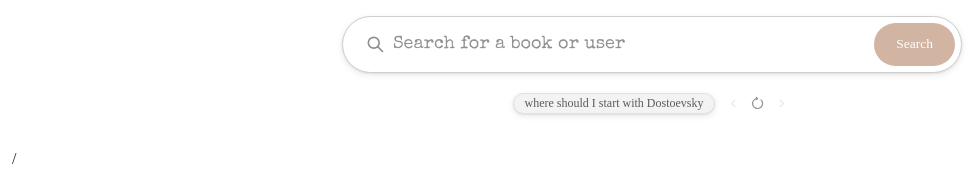
Test: DiscoverPage › the canned search pills (LOS-212) › draws a new sample when the refresh glyph is clicked
This screenshot has width=980, height=181.
Expected: the button "where should I start with Dostoevsky" is shown, [512,93,716,114]
Click the button named "Show different searches" at (758, 104), box [744,91,770,117]
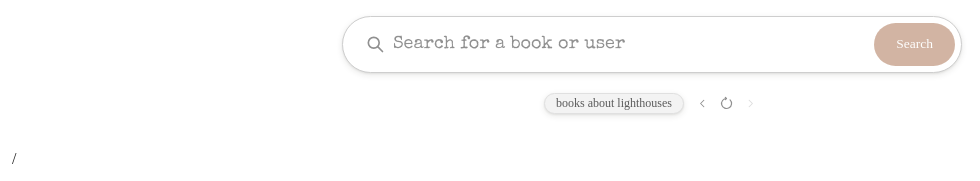
Result: the button "books about lighthouses" is shown at [544,93,684,114]
Result: the button "where should I start with Dostoevsky" is gone
